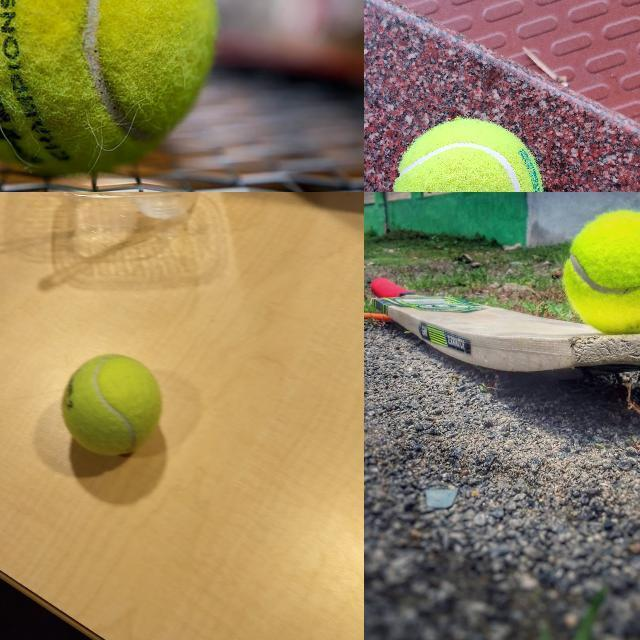tennis-ball: (0, 0, 219, 174), (393, 119, 542, 191), (62, 352, 163, 456), (563, 209, 639, 332)
